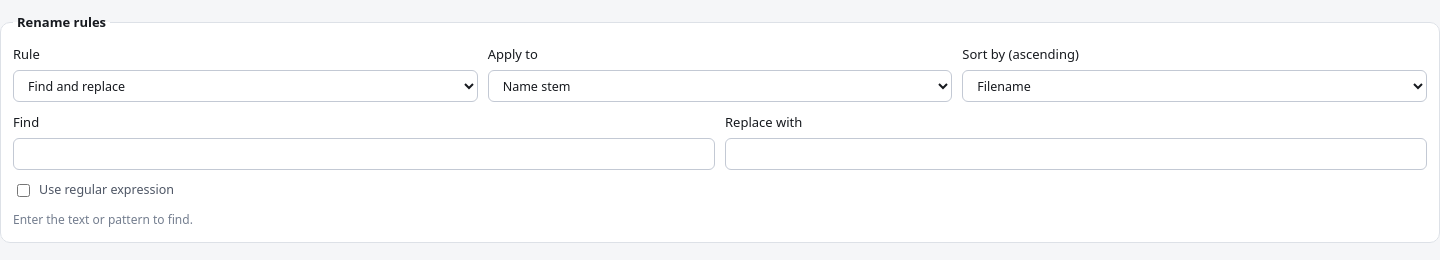
Test: F02 rule controls › preserves literal replacement text, explains capture syntax in regex mode, and passes the selected scope
The width and height of the screenshot is (1440, 260).
Later steps or results of the test are not shown.
Type "(img)([0-9]+)" into the field labelled "Find". click: (364, 154)
box: [13, 138, 715, 170]
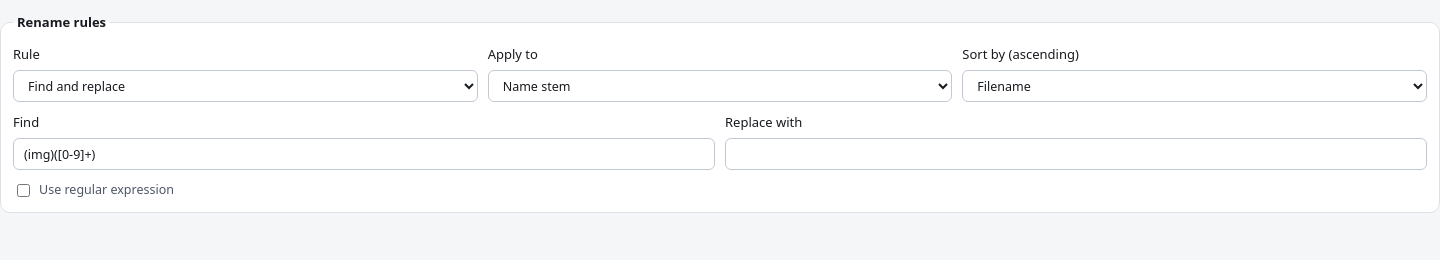
Type "$2-$1" into the field labelled "Replace with". click: (1076, 154)
box: [725, 138, 1427, 170]
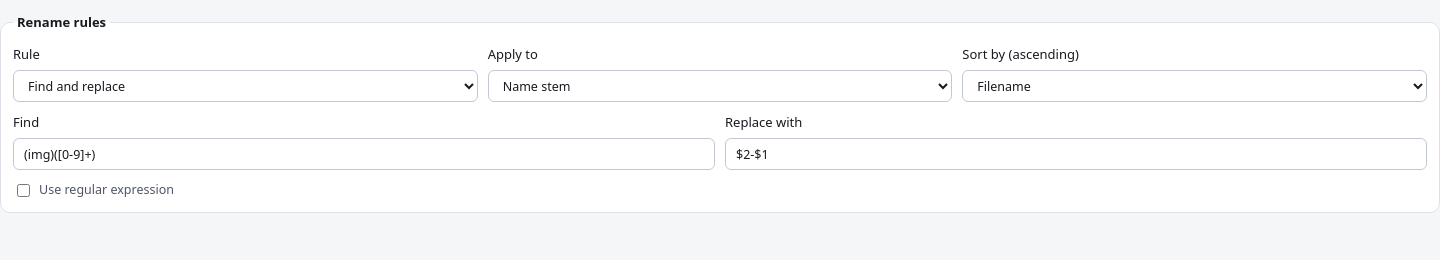
Click the checkbox labelled "Use regular expression". click: (24, 190)
box: [17, 184, 30, 196]
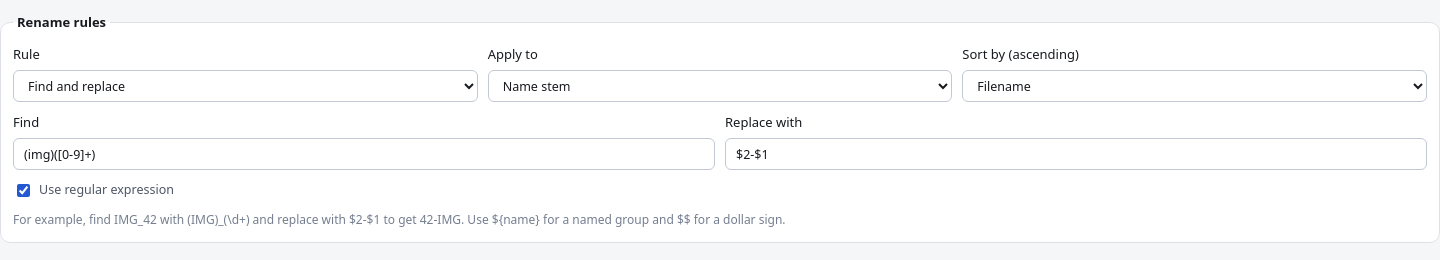
Check: the text "Use ${name}" is shown, box [13, 211, 786, 228]
